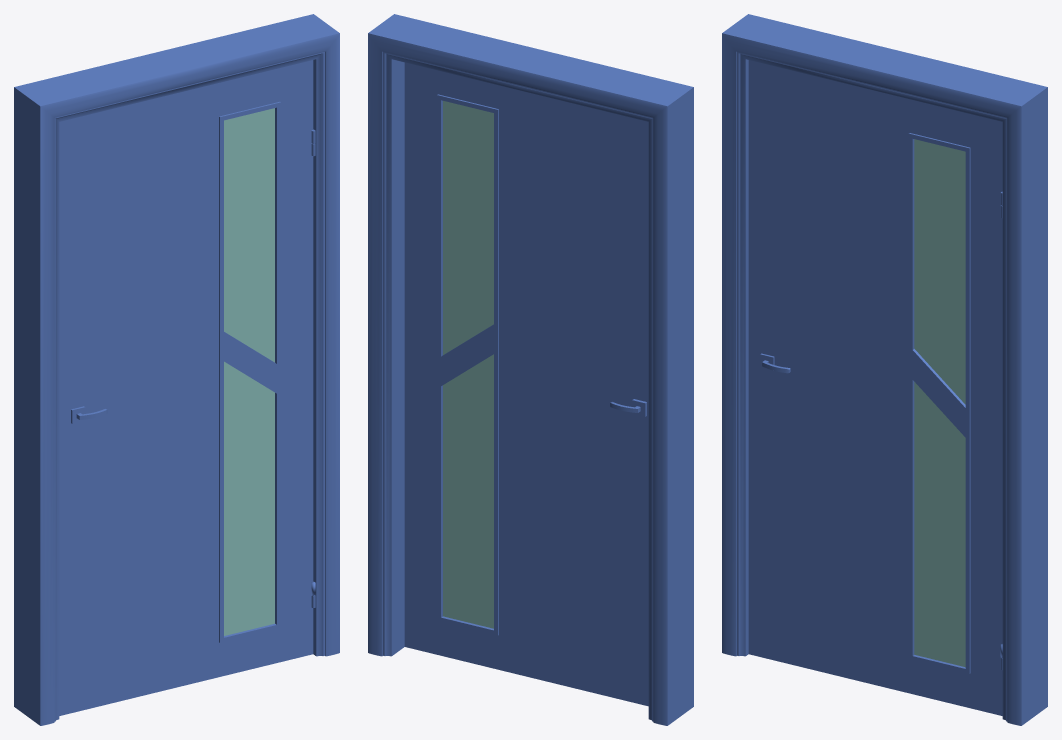
The model's file is Bath_Door.fbx.
3 views of the same model, side by side, from view 1: azimuth 30°, elevation 25°; view 2: azimuth 150°, elevation 25°; view 3: azimuth 330°, elevation 25° (orthographic).
Parts seen in each view (by area): view 1: SM_Bath_Door, SM_Bath_Door_Frame; view 2: SM_Bath_Door, SM_Bath_Door_Frame; view 3: SM_Bath_Door, SM_Bath_Door_Frame.
Boxes of the visible parts, x1,y1,x2,y2 form: SM_Bath_Door: (59, 60, 315, 715); SM_Bath_Door_Frame: (14, 14, 339, 725); SM_Bath_Door: (404, 62, 648, 706); SM_Bath_Door_Frame: (368, 14, 693, 725); SM_Bath_Door: (748, 60, 1002, 715); SM_Bath_Door_Frame: (722, 14, 1047, 725).
Size of the model in its own units: 105 by 208 by 16.94.
